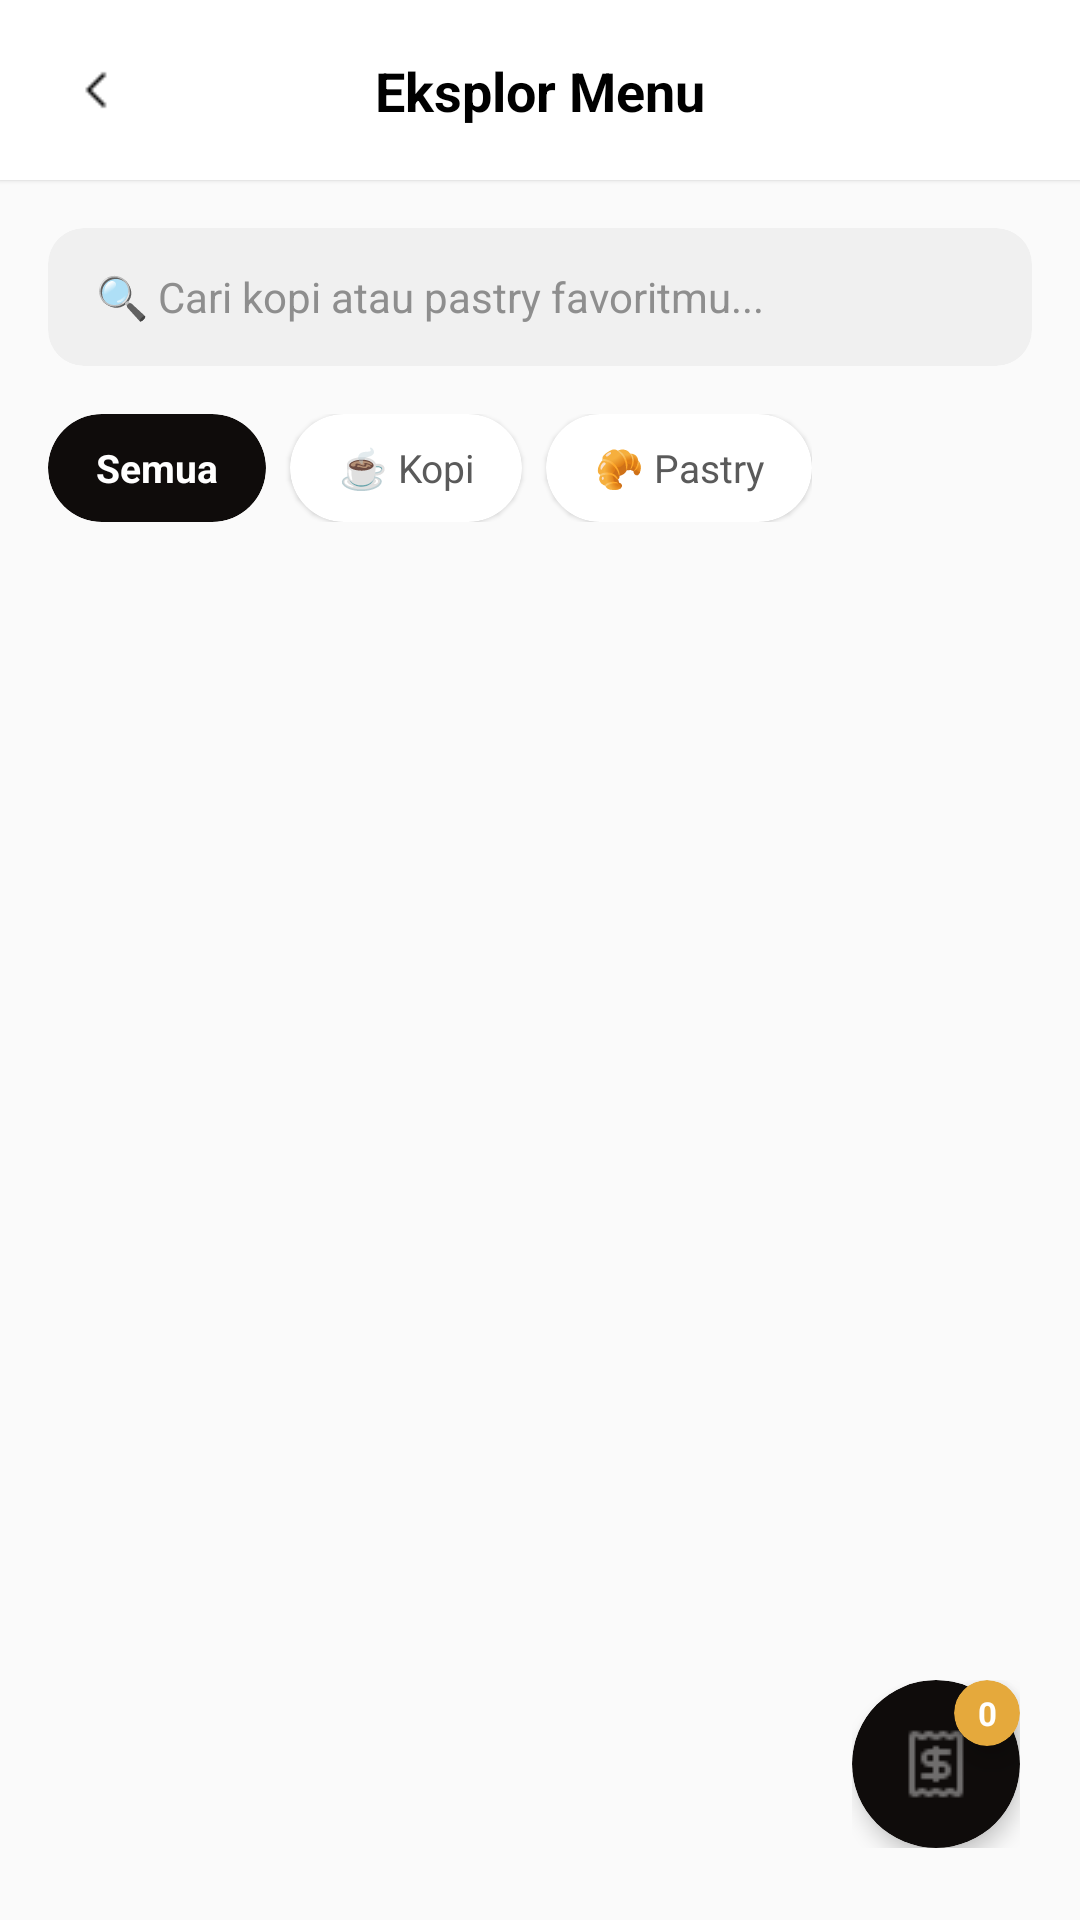

Screen size 1080 × 1920. Icon name, then its box in pixels as (x1, y1, x2, y2):
back: (85, 72, 107, 108)
nota: (908, 1728, 972, 1798)
